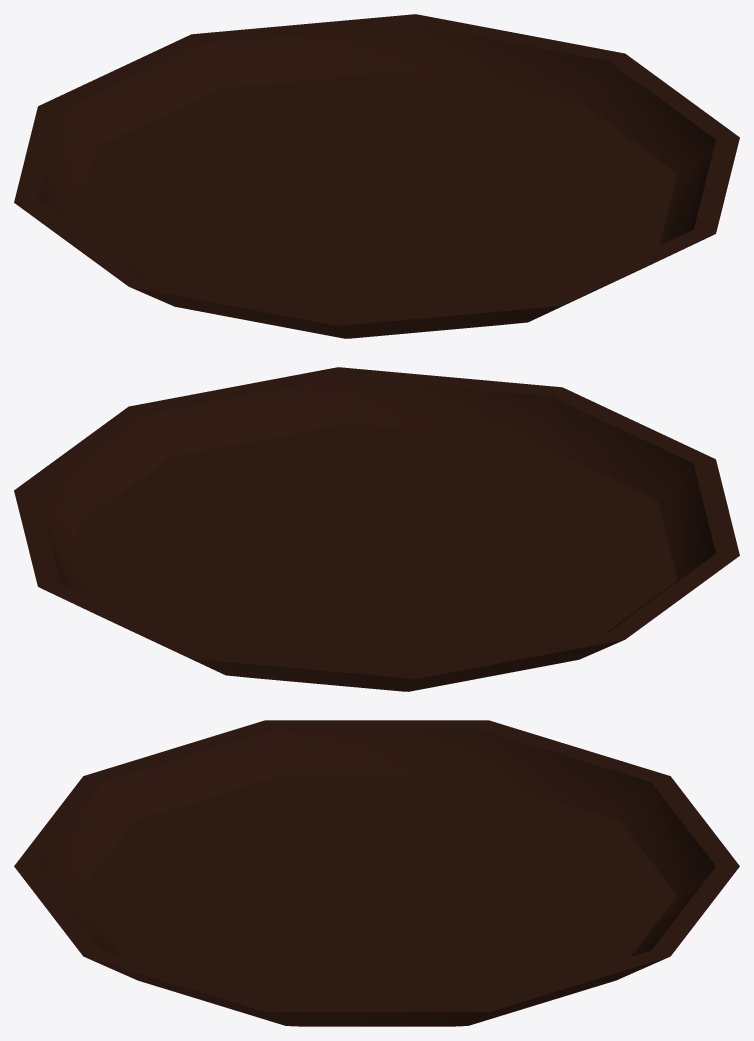
The model's file is Dish 1.fbx.
The picture shows the model from 3 angles, top to bottom: view 1: azimuth 30°, elevation 25°; view 2: azimuth 150°, elevation 25°; view 3: azimuth 270°, elevation 25°; orthographic projection. The views are drawn at different scales.
Parts seen in each view (by area): view 1: Plate 1.001; view 2: Plate 1.001; view 3: Plate 1.001.
Part boxes in pixels (x1,y1,x2,y2): Plate 1.001: (14,14,739,338); Plate 1.001: (14,367,739,691); Plate 1.001: (14,720,739,1026).
Bounding box in the file's own units: 66.57 × 6.4 × 70.
